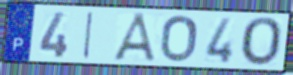4: (37, 9, 71, 60), (203, 16, 235, 65)
A: (111, 11, 160, 64)
I: (81, 10, 96, 60)
O: (240, 16, 285, 68), (159, 14, 200, 64)
